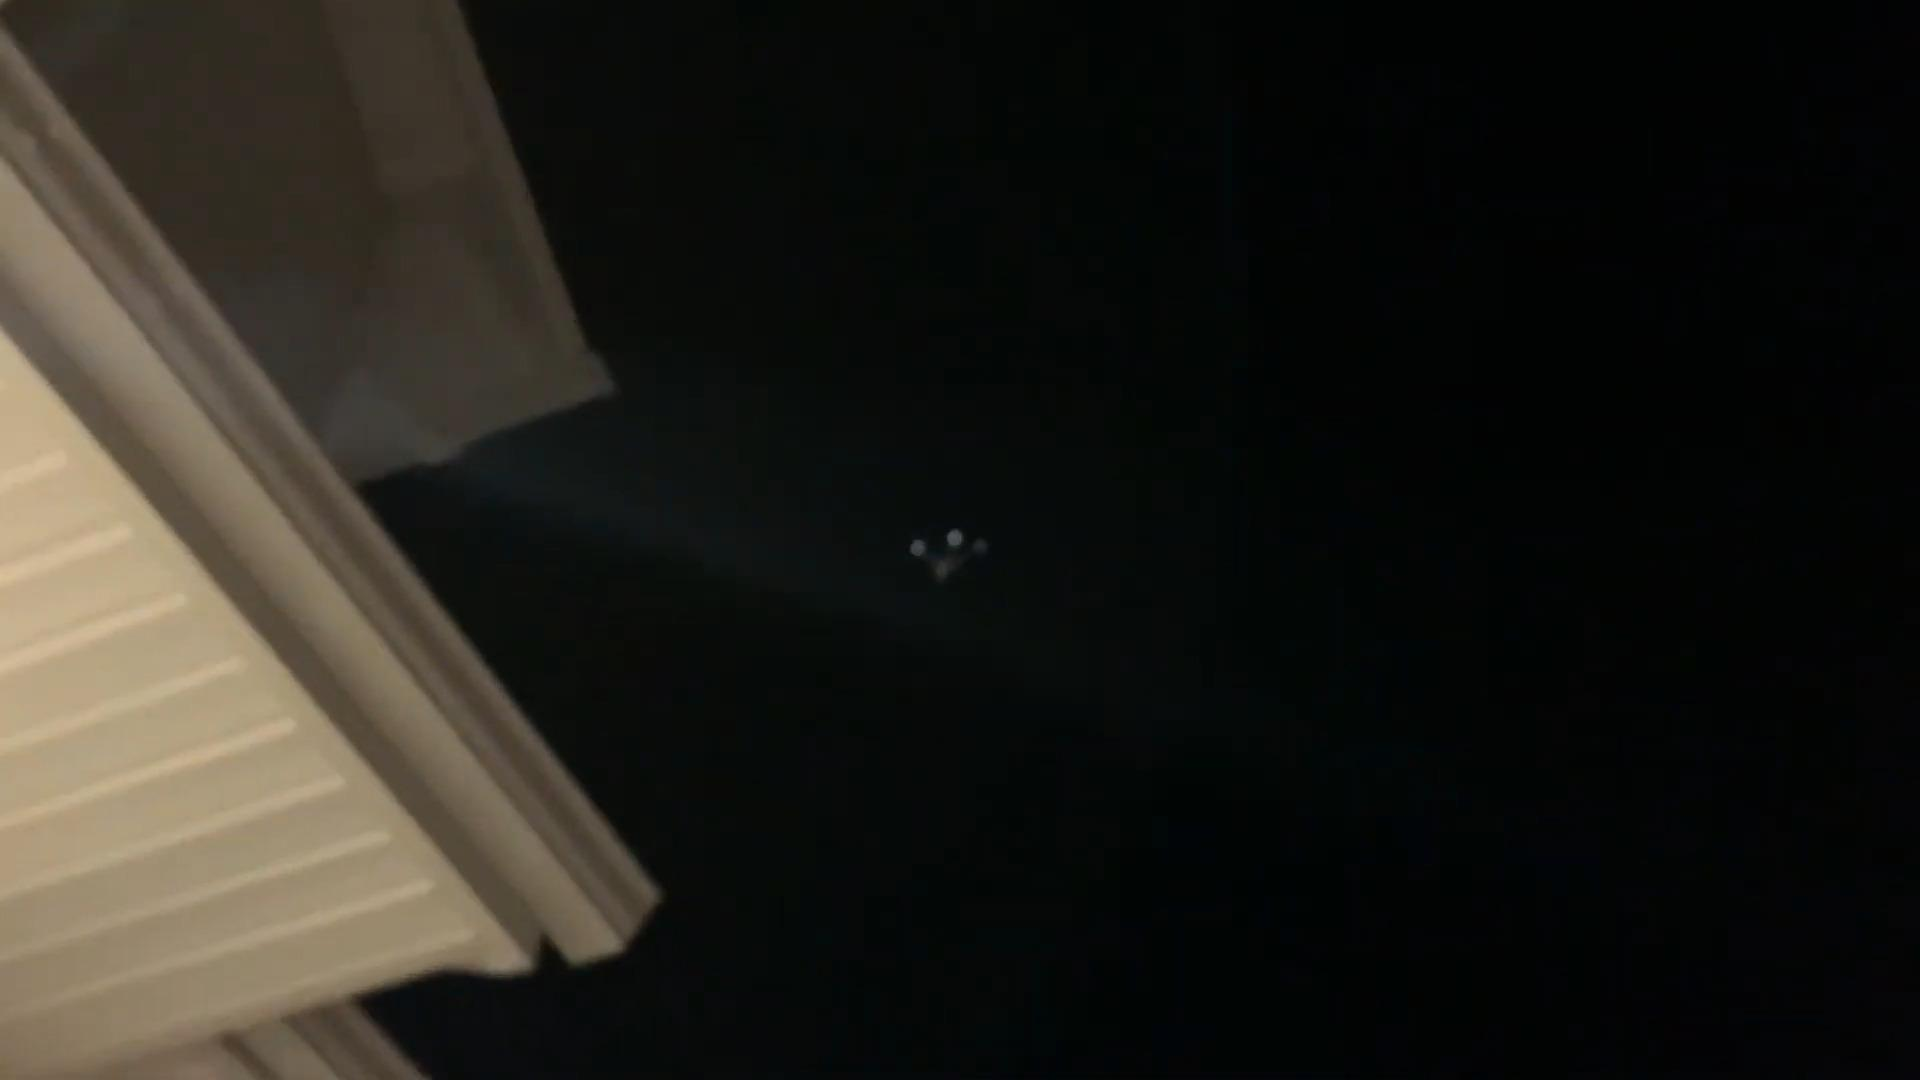Plane: (866, 513, 1031, 595)
